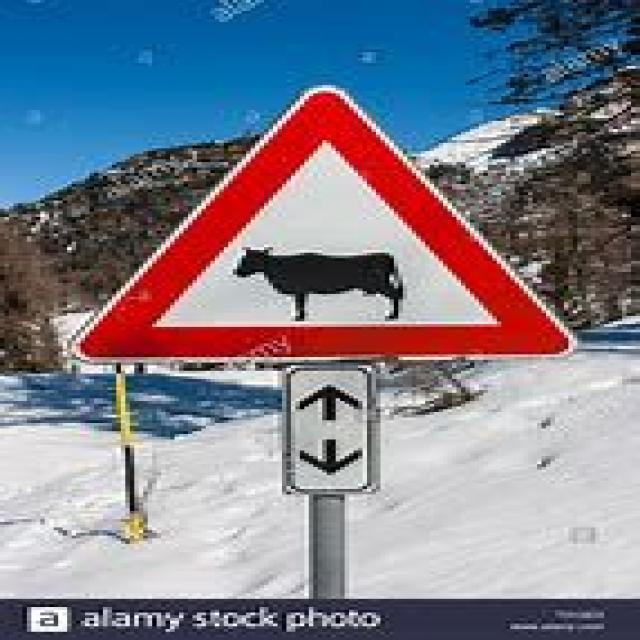CATTLE: (63, 80, 582, 376)
